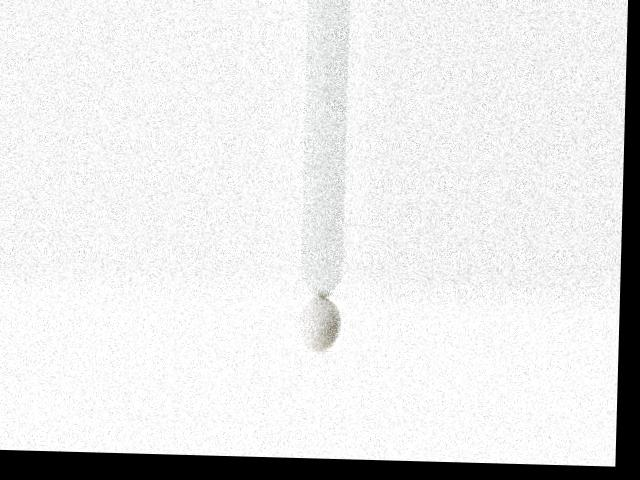egg: (298, 295, 341, 354)
